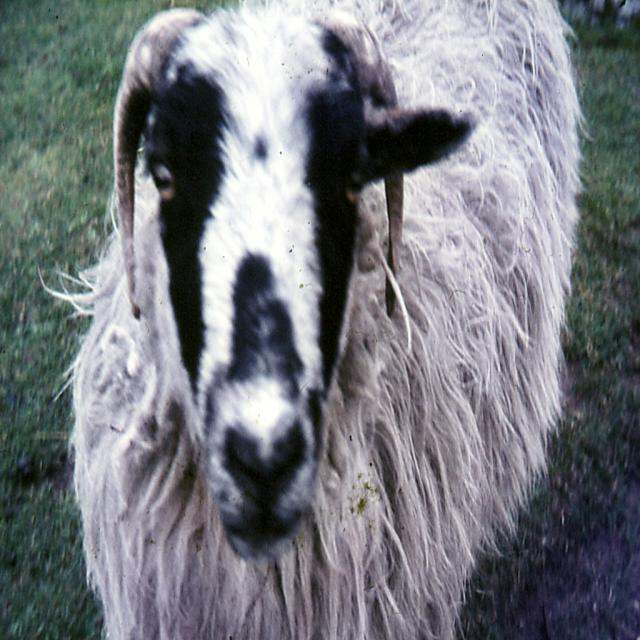Sheep: (52, 2, 616, 640)
